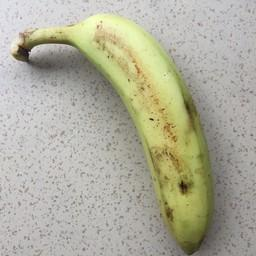Good_banana: (11, 0, 216, 256)
